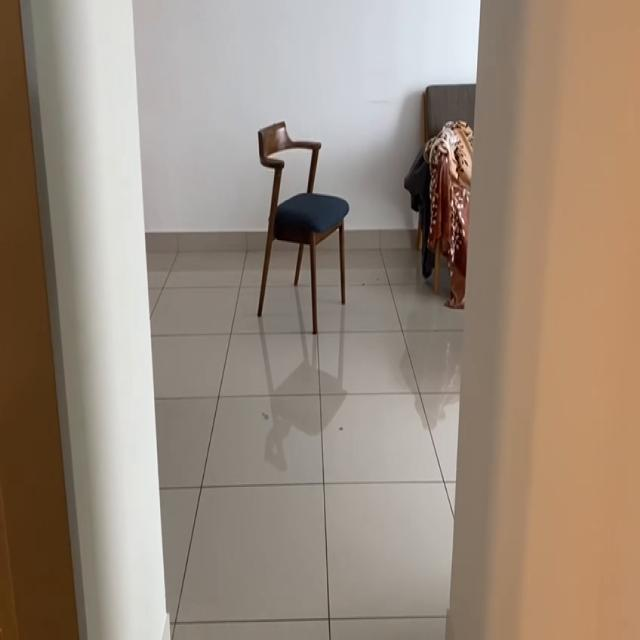Chair: (240, 118, 356, 343)
